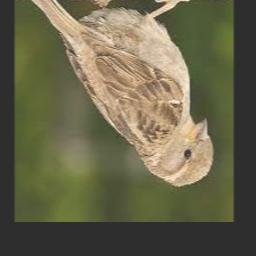Sparrow: (21, 0, 212, 187)
